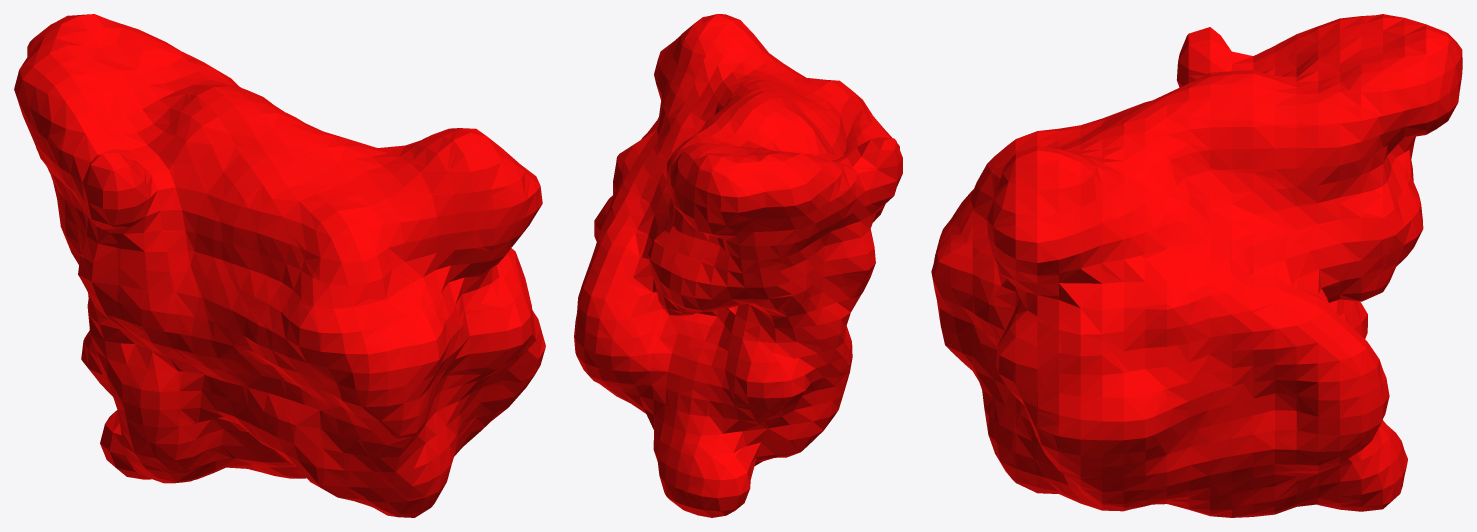
Rendered from yhjE_coarse.dae.
3 views of the same model, side by side, from view 1: azimuth 30°, elevation 25°; view 2: azimuth 150°, elevation 25°; view 3: azimuth 270°, elevation 25° (orthographic). The views are drawn at different scales.
Visible parts, largest first — view 1: yhjE; view 2: yhjE; view 3: yhjE.
Boxes of the visible parts, bbox=[...] form: yhjE: bbox=[14, 14, 545, 517]; yhjE: bbox=[574, 14, 902, 517]; yhjE: bbox=[931, 14, 1462, 517].
Bounding box in the file's own units: 58.58 × 64.21 × 68.46.
